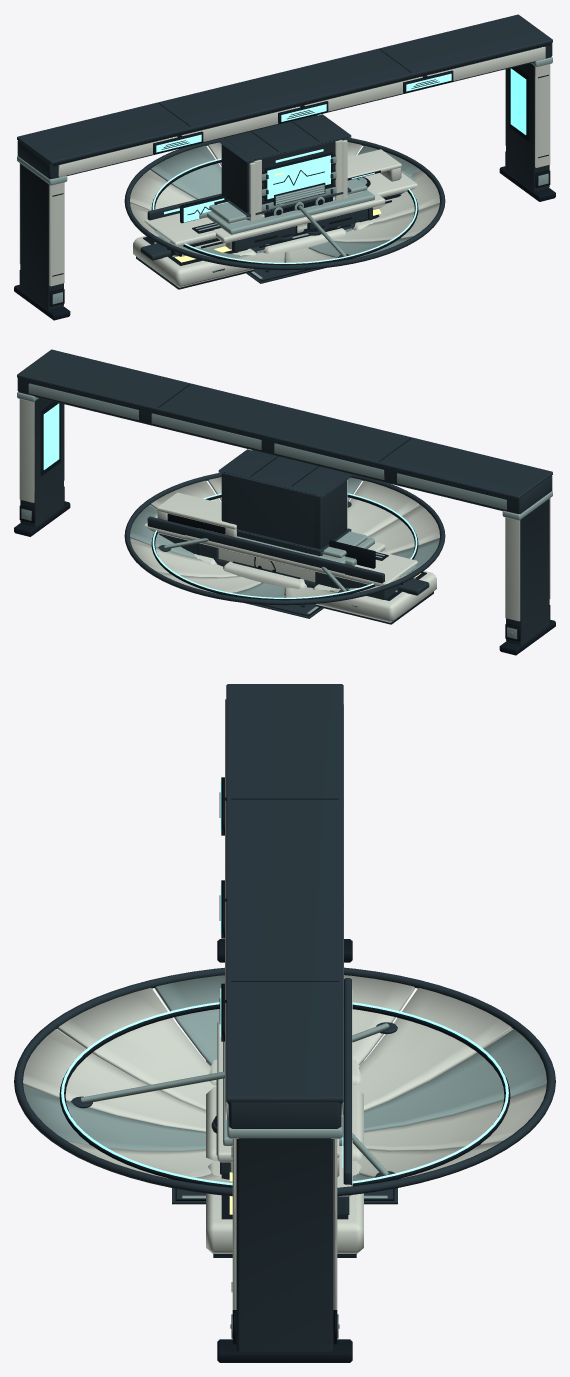
File: clinical.glb
The picture shows the model from 3 angles, top to bottom: view 1: azimuth 30°, elevation 25°; view 2: azimuth 150°, elevation 25°; view 3: azimuth 270°, elevation 25°; orthographic projection. The views are drawn at different scales.
Parts seen in each view (by area): view 1: clinical-scanner-arch--e9-body, clinical-scanner-arch--e9-ceramic, comms-uplink-dish--e9-ceramic, clinical-scanner-arch--e9-dark, comms-uplink-dish--e9-trim, clinical-diagnostic-tower--e9-body, clinical-analyser--e9-ceramic, comms-uplink-dish--e9-body, habitation-gallery-pendant--e9-ceramic, comms-rack-tall--e9-body, clinical-scanner-arch--e9-cyan, clinical-diagnostic-tower--e9-cyan (+16 smaller); view 2: clinical-scanner-arch--e9-body, comms-uplink-dish--e9-ceramic, clinical-diagnostic-tower--e9-body, clinical-scanner-arch--e9-trim, clinical-analyser--e9-body, clinical-scanner-arch--e9-ceramic, comms-uplink-dish--e9-body, clinical-scanner-arch--e9-dark, habitation-gallery-pendant--e9-ceramic, clinical-analyser--e9-ceramic, comms-rack-tall--e9-body, comms-uplink-dish--e9-trim (+10 smaller); view 3: clinical-scanner-arch--e9-body, comms-uplink-dish--e9-ceramic, comms-uplink-dish--e9-trim, comms-uplink-dish--e9-body, habitation-gallery-pendant--e9-ceramic, clinical-scanner-arch--e9-dark, comms-uplink-dish--e9-dark, clinical-scanner-arch--e9-ceramic, comms-uplink-dish--e9-cyan, clinical-analyser--e9-body, clinical-scanner-arch--e9-trim, clinical-testbench--e9-ceramic.
Boxes of the visible parts, x1,y1,x2,y2 form: clinical-scanner-arch--e9-body: (17, 14, 552, 309); clinical-scanner-arch--e9-ceramic: (19, 46, 550, 286); comms-uplink-dish--e9-ceramic: (130, 142, 439, 262); clinical-scanner-arch--e9-dark: (14, 43, 555, 320); comms-uplink-dish--e9-trim: (150, 145, 419, 258); clinical-diagnostic-tower--e9-body: (224, 115, 346, 202); clinical-analyser--e9-ceramic: (144, 149, 417, 256); comms-uplink-dish--e9-body: (124, 138, 445, 270); habitation-gallery-pendant--e9-ceramic: (133, 218, 375, 287); comms-rack-tall--e9-body: (218, 114, 351, 213); clinical-scanner-arch--e9-cyan: (156, 68, 526, 152); clinical-diagnostic-tower--e9-cyan: (267, 149, 330, 199); clinical-scanner-arch--e9-body: (17, 349, 552, 644); comms-uplink-dish--e9-ceramic: (130, 477, 439, 597); clinical-diagnostic-tower--e9-body: (223, 450, 345, 554); clinical-scanner-arch--e9-trim: (17, 383, 552, 639); clinical-analyser--e9-body: (147, 516, 400, 599); clinical-scanner-arch--e9-ceramic: (19, 399, 550, 621); comms-uplink-dish--e9-body: (124, 473, 445, 605); clinical-scanner-arch--e9-dark: (14, 378, 555, 655); habitation-gallery-pendant--e9-ceramic: (194, 554, 436, 622); clinical-analyser--e9-ceramic: (144, 492, 417, 586); comms-rack-tall--e9-body: (218, 449, 351, 555); comms-uplink-dish--e9-trim: (130, 477, 439, 597); clinical-scanner-arch--e9-body: (226, 684, 343, 1352); comms-uplink-dish--e9-ceramic: (23, 975, 546, 1182); comms-uplink-dish--e9-trim: (23, 975, 546, 1181); comms-uplink-dish--e9-body: (14, 967, 555, 1196); habitation-gallery-pendant--e9-ceramic: (206, 1059, 363, 1253); clinical-scanner-arch--e9-dark: (217, 777, 352, 1362); comms-uplink-dish--e9-dark: (59, 1004, 510, 1187); clinical-scanner-arch--e9-ceramic: (225, 699, 337, 1309); comms-uplink-dish--e9-cyan: (61, 1002, 508, 1185); clinical-analyser--e9-body: (337, 978, 351, 1214); clinical-scanner-arch--e9-trim: (227, 704, 343, 1338); clinical-testbench--e9-ceramic: (217, 1021, 352, 1162).
Size of the model in its own units: 8.7 by 2.6 by 4.8.
